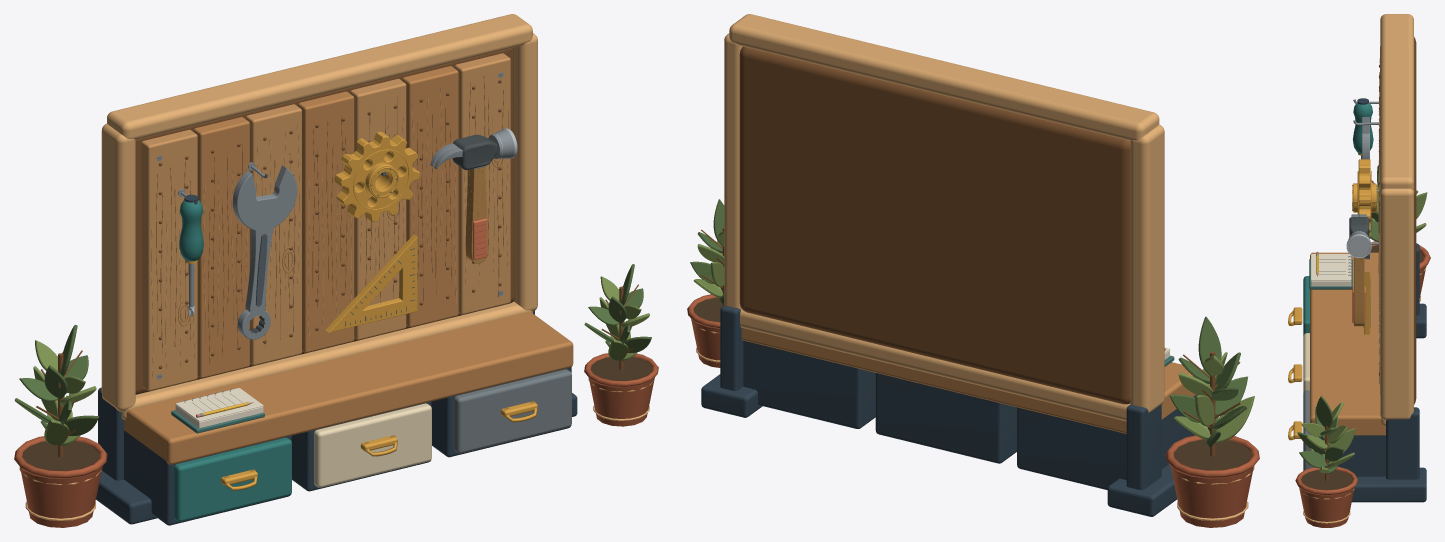
File: workshop-tool-rack-pencil-sync.glb
3 renders of one model, left to right at view 1: azimuth 30°, elevation 25°; view 2: azimuth 150°, elevation 25°; view 3: azimuth 270°, elevation 25°, orthographic. The views are drawn at different scales.
Visible parts, largest first — view 1: timber, plank, Refined_Frame_Top, navy, Refined_Frame_Side_-069, Refined_Grey_Drawer, cream, teal, Refined_Frame_Side_069, grain, Refined_Frame_Bottom, brass_1 (+13 smaller); view 2: darkWood, navy, Refined_Frame_Top, Refined_Frame_Side_-069, Refined_Frame_Bottom, timber, pot, Refined_Frame_Side_069, soil, pot_1, Leaf_8, Leaf_1; view 3: timber, Refined_Frame_Side_069, navy, Refined_Frame_Top, pot_1, brass_1, darkWood, Refined_Notebook_Top, soil_1, Wood_Handle, Refined_Original_Yellow_Handles, Teal_Handle (+20 smaller).
Part boxes in pixels (x1,y1,x2,y2): timber: (124,66,573,464); plank: (141,53,510,390); Refined_Frame_Top: (107,14,532,139); navy: (96,311,577,525); Refined_Frame_Side_-069: (101,123,135,411); Refined_Grey_Drawer: (453,369,571,453); cream: (314,403,431,487); teal: (174,437,291,521); Refined_Frame_Side_069: (513,33,537,311); grain: (156,76,503,363); Refined_Frame_Bottom: (121,301,532,419); brass_1: (334,131,419,221); darkWood: (739,46,1130,404); navy: (701,305,1197,516); Refined_Frame_Top: (729,14,1159,140); Refined_Frame_Side_-069: (1130,125,1164,412); Refined_Frame_Bottom: (740,309,1130,421); timber: (741,327,1195,433); pot: (1165,435,1259,527); Refined_Frame_Side_069: (724,33,742,309); soil: (1173,439,1251,470); pot_1: (687,294,720,367); Leaf_8: (1198,316,1221,376); Leaf_1: (1215,396,1254,442); timber: (1310,68,1385,435); Refined_Frame_Side_069: (1380,188,1413,420); navy: (1313,243,1426,502); Refined_Frame_Top: (1380,14,1413,189); pot_1: (1295,466,1358,527); brass_1: (1352,159,1377,236); darkWood: (1414,37,1416,404); Refined_Notebook_Top: (1311,254,1351,280); soil_1: (1301,470,1352,489); Wood_Handle: (1354,257,1364,326); Refined_Original_Yellow_Handles: (1288,307,1302,440); Teal_Handle: (1352,103,1373,153).
Bounding box in the file's own units: 2.04 × 1.25 × 0.5082.
